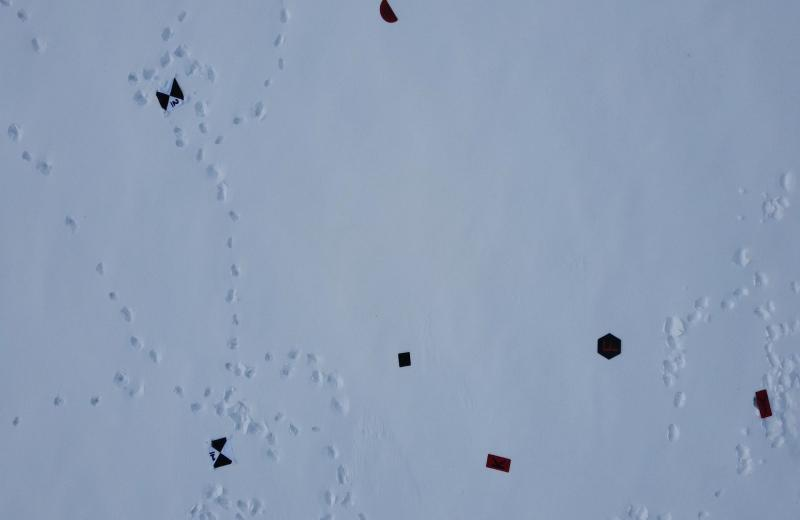Hexagon: (593, 330, 623, 365)
Rectangle: (484, 442, 512, 477), (747, 387, 775, 419)
Semi Circle: (376, 0, 401, 25)
Square: (396, 346, 418, 370)
